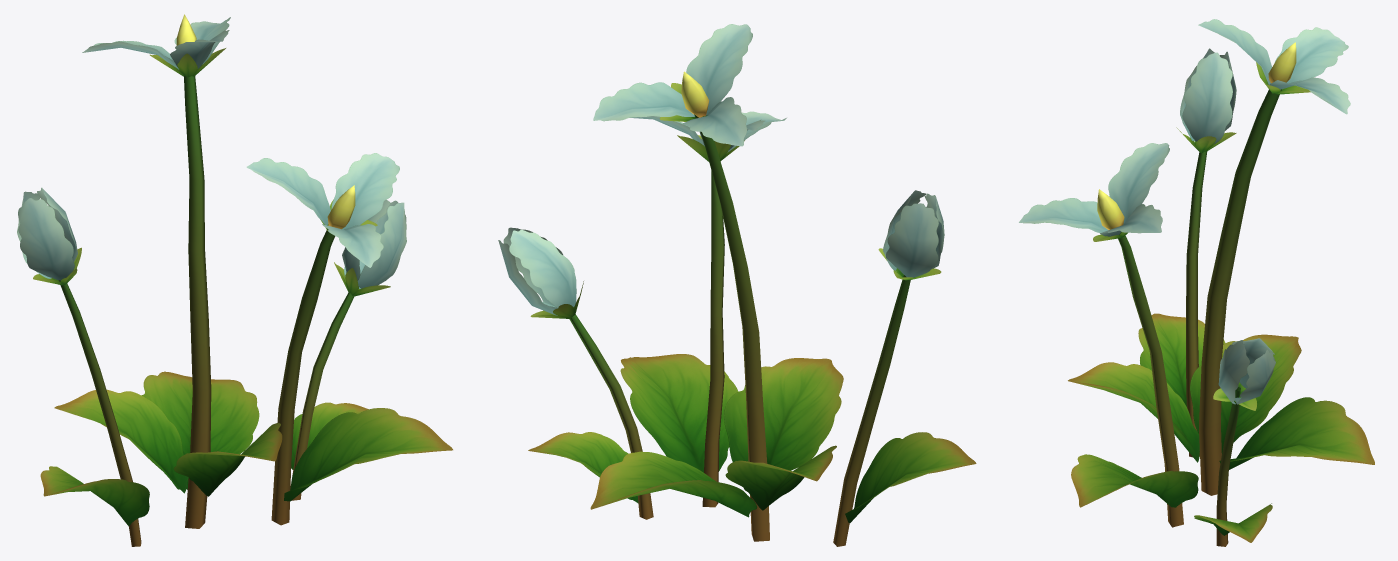
3 renders of one model, left to right at view 1: azimuth 30°, elevation 25°; view 2: azimuth 150°, elevation 25°; view 3: azimuth 270°, elevation 25°, orthographic. The views are drawn at different scales.
Visible parts, largest first — view 1: pl-flowers-trillium; view 2: pl-flowers-trillium; view 3: pl-flowers-trillium.
Part boxes in pixels (x1,y1,x2,y2): pl-flowers-trillium: (17, 14, 452, 546); pl-flowers-trillium: (498, 24, 976, 546); pl-flowers-trillium: (1019, 19, 1374, 546).
Size of the model in its own units: 0.7055 by 0.7906 by 0.5454.
Materials: 1 (1 with a texture image).
